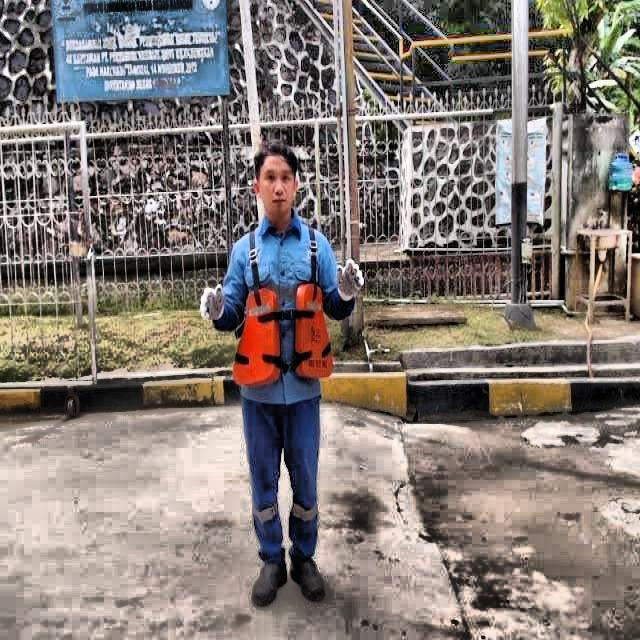safety_jacket: (235, 284, 333, 389)
